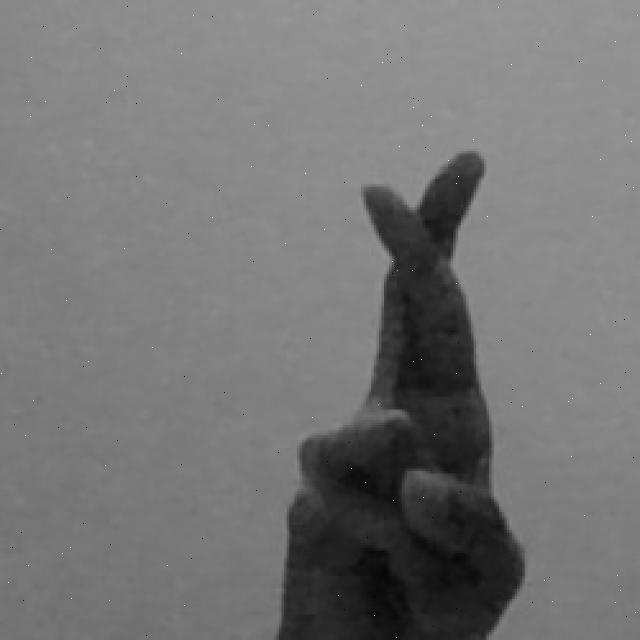R: (275, 146, 530, 640)
